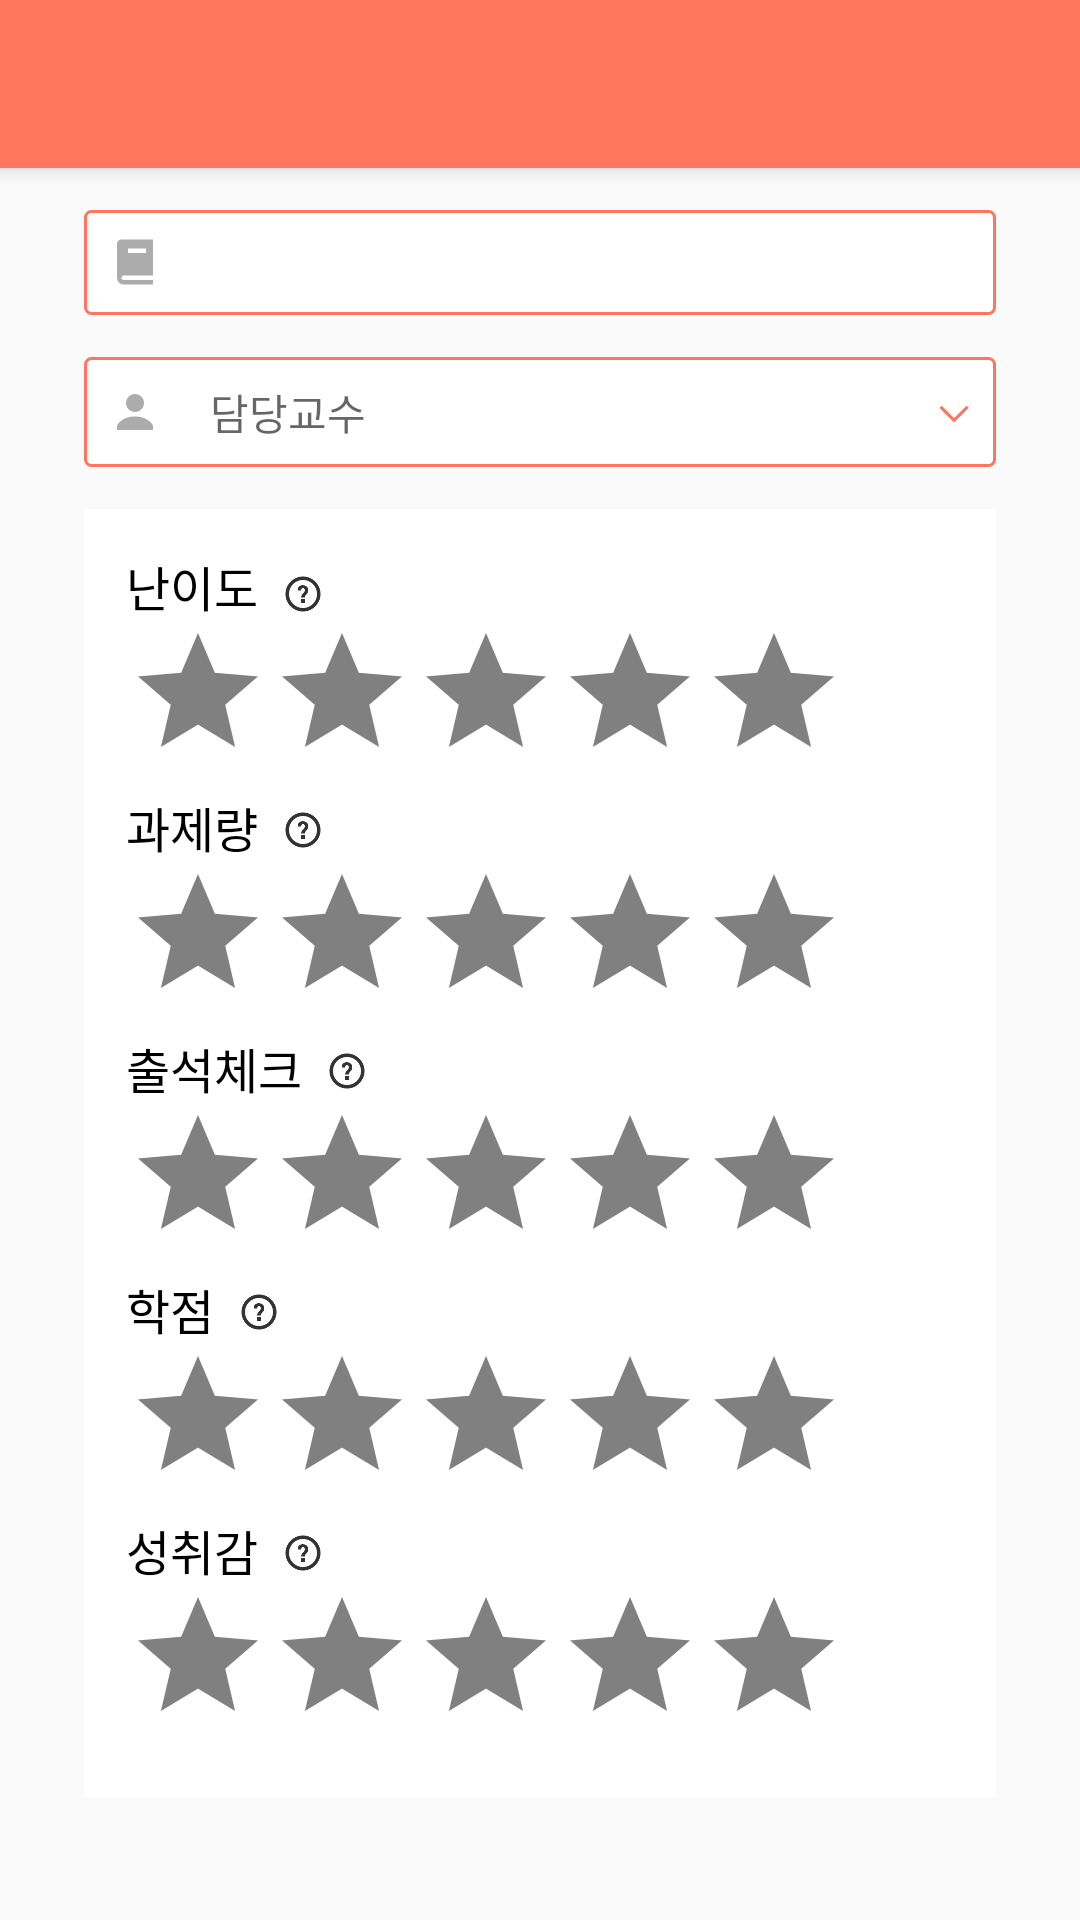

Named icons in this screenshot (1080x1920) and their bounding boxes, (x1, y1, x2, y2):
expand arrow: (939, 406, 969, 422)
help: (285, 576, 321, 612), (285, 812, 321, 848), (329, 1053, 365, 1089), (241, 1294, 277, 1330), (285, 1535, 321, 1571)
prof: (117, 394, 153, 430)
